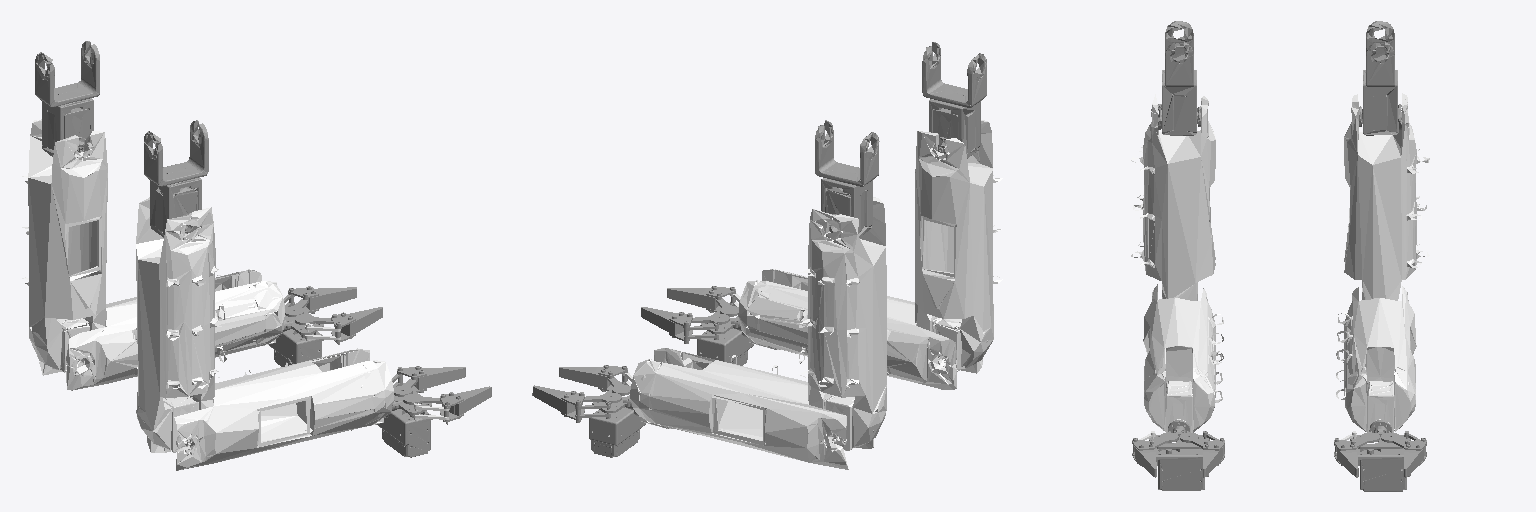
URDF robot description (uvdms):
<?xml version='1.0' encoding='utf-8'?>
<robot name="uvdms">
  <!-- Portable UVDMS model derived from authorized SolidWorks CAD exports. Mesh coordinates and source kinematic/inertial parameters are retained. Assets: CC BY-NC 4.0; attribution: Agn4869. --><link name="base_link">
    <inertial>
      <origin xyz="-0.21133 0.0021801 0.33464" rpy="0 0 0" />
      <mass value="29.878" />
      <inertia ixx="2.56" ixy="-0.01" ixz="-0.08" iyy="3.25" iyz="0.03" izz="2.94" />
    </inertial>
    <visual>
      <origin xyz="0 0 0" rpy="0 0 0" />
      <geometry>
        <mesh filename="../meshes/base_link.stl" />
      </geometry>
      <material name="">
        <color rgba="0.69804 0.69804 0.69804 1" />
      </material>
    </visual>
    <collision>
      <origin xyz="0 0 0" rpy="0 0 0" />
      <geometry>
        <mesh filename="../meshes/base_link.stl" />
      </geometry>
    </collision>
  </link>
  <link name="link_1A">
    <inertial>
      <origin xyz="4.50247e-05 0.0735971 -0.03365" rpy="0 0 0" />
      <mass value="0.33183" />
      <inertia ixx="0.00018008" ixy="-1.8956E-06" ixz="2.3669E-11" iyy="0.00012344" iyz="-3.6598E-07" izz="0.00015274" />
    </inertial>
    <visual>
      <origin xyz="-0.00464118 -0.0286529 -0" rpy="0 0 0" />
      <geometry>
        <mesh filename="../meshes/link_1A.stl" />
      </geometry>
      <material name="">
        <color rgba="0.69804 0.69804 0.69804 1" />
      </material>
    </visual>
    <collision>
      <origin xyz="-0.00464118 -0.0286529 -0" rpy="0 0 0" />
      <geometry>
        <mesh filename="../meshes/link_1A.stl" />
      </geometry>
    </collision>
  </link>
  <joint name="joint_1A" type="revolute">
    <origin xyz="0.0492999 0.125249 -0.10325" rpy="-1.5708 0 -1.5708" />
    <parent link="base_link" />
    <child link="link_1A" />
    <axis xyz="0 0 1" />
    <limit lower="-1.5708" upper="1.5708" effort="10" velocity="1" />
  </joint>
  <link name="link_2A">
    <inertial>
      <origin xyz="8.0321E-05 0.18362 -0.035882" rpy="0 0 0" />
      <mass value="0.50657" />
      <inertia ixx="0.0024479" ixy="3.8567E-08" ixz="2.4435E-07" iyy="0.0005045" iyz="-2.1761E-06" izz="0.0024658" />
    </inertial>
    <visual>
      <origin xyz="0 0 0" rpy="0 0 0" />
      <geometry>
        <mesh filename="../meshes/link_2A.stl" />
      </geometry>
      <material name="">
        <color rgba="1 1 1 1" />
      </material>
    </visual>
    <collision>
      <origin xyz="0 0 0" rpy="0 0 0" />
      <geometry>
        <mesh filename="../meshes/link_2A.stl" />
      </geometry>
    </collision>
  </link>
  <joint name="joint_2A" type="revolute">
    <origin xyz="0.0351998 0.0997471 -0.0336" rpy="0 1.5708 0" />
    <parent link="link_1A" />
    <child link="link_2A" />
    <axis xyz="0 0 -1" />
    <limit lower="-1.5708" upper="1.5708" effort="10" velocity="1" />
  </joint>
  <link name="link_3A">
    <inertial>
      <origin xyz="-0.17647 -0.0069515 0.033993" rpy="0 0 0" />
      <mass value="0.47744" />
      <inertia ixx="0.00049496" ixy="-1.5376E-06" ixz="-1.5357E-06" iyy="0.0021442" iyz="9.7392E-08" izz="0.0021234" />
    </inertial>
    <visual>
      <origin xyz="0 0 0" rpy="0 0 0" />
      <geometry>
        <mesh filename="../meshes/link_3A.stl" />
      </geometry>
      <material name="">
        <color rgba="1 1 1 1" />
      </material>
    </visual>
    <collision>
      <origin xyz="0 0 0" rpy="0 0 0" />
      <geometry>
        <mesh filename="../meshes/link_3A.stl" />
      </geometry>
    </collision>
  </link>
  <joint name="joint_3A" type="revolute">
    <origin xyz="0.00015 0.27269 -0.00028678" rpy="3.1416 0 0" />
    <parent link="link_2A" />
    <child link="link_3A" />
    <axis xyz="0 0 1" />
    <limit lower="-1.5708" upper="1.5708" effort="10" velocity="1" />
  </joint>
  <link name="link_4A">
    <inertial>
      <origin xyz="2.7756E-17 -1.1102E-16 -0.0005" rpy="0 0 0" />
      <mass value="0.00053721" />
      <inertia ixx="2.9726E-08" ixy="-3.809E-24" ixz="-5.2782E-24" iyy="2.9726E-08" iyz="-2.0025E-23" izz="5.9362E-08" />
    </inertial>
    <visual>
      <origin xyz="0 0 0" rpy="0 0 0" />
      <geometry>
        <mesh filename="../meshes/link_4A.stl" />
      </geometry>
      <material name="">
        <color rgba="1 1 1 1" />
      </material>
    </visual>
    <collision>
      <origin xyz="0 0 0" rpy="0 0 0" />
      <geometry>
        <mesh filename="../meshes/link_4A.stl" />
      </geometry>
    </collision>
  </link>
  <joint name="joint_4A" type="revolute">
    <origin xyz="-0.27384 -0.03022 0.035176" rpy="-3.1416 1.5708 0" />
    <parent link="link_3A" />
    <child link="link_4A" />
    <axis xyz="0 0 1" />
    <limit lower="-1.5708" upper="1.5708" effort="10" velocity="1" />
  </joint>
  <link name="link_1B">
    <inertial>
      <origin xyz="-4.52e-05 0.0736013 -0.033845" rpy="0 0 0" />
      <mass value="0.33183" />
      <inertia ixx="0.00018008" ixy="1.8955E-06" ixz="2.3669E-11" iyy="0.00012344" iyz="-3.6598E-07" izz="0.00015274" />
    </inertial>
    <visual>
      <origin xyz="-0.004605 -0.0274487 -0" rpy="0 0 0" />
      <geometry>
        <mesh filename="../meshes/link_1B.stl" />
      </geometry>
      <material name="">
        <color rgba="0.69804 0.69804 0.69804 1" />
      </material>
    </visual>
    <collision>
      <origin xyz="-0.004605 -0.0274487 -0" rpy="0 0 0" />
      <geometry>
        <mesh filename="../meshes/link_1B.stl" />
      </geometry>
    </collision>
  </link>
  <joint name="joint_1B" type="revolute">
    <origin xyz="0.0492999 -0.125255 -0.103251" rpy="-1.5708 0 -1.5708" />
    <parent link="base_link" />
    <child link="link_1B" />
    <axis xyz="0 0 -1" />
    <limit lower="-1.5708" upper="1.5708" effort="10" velocity="1" />
  </joint>
  <link name="link_2B">
    <inertial>
      <origin xyz="4.7642E-05 0.18362 0.035882" rpy="0 0 0" />
      <mass value="0.50657" />
      <inertia ixx="0.0024479" ixy="-3.8543E-08" ixz="2.4433E-07" iyy="0.0005045" iyz="2.176E-06" izz="0.0024658" />
    </inertial>
    <visual>
      <origin xyz="0 0 0" rpy="0 0 0" />
      <geometry>
        <mesh filename="../meshes/link_2B.stl" />
      </geometry>
      <material name="">
        <color rgba="1 1 1 1" />
      </material>
    </visual>
    <collision>
      <origin xyz="0 0 0" rpy="0 0 0" />
      <geometry>
        <mesh filename="../meshes/link_2B.stl" />
      </geometry>
    </collision>
  </link>
  <joint name="joint_2B" type="revolute">
    <origin xyz="-0.0352 0.0997513 -0.0339" rpy="0 1.5708 0" />
    <parent link="link_1B" />
    <child link="link_2B" />
    <axis xyz="0 0 1" />
    <limit lower="-1.5708" upper="1.5708" effort="10" velocity="1" />
  </joint>
  <link name="link_3B">
    <inertial>
      <origin xyz="-0.17647 0.0069776 0.034083" rpy="0 0 0" />
      <mass value="0.47744" />
      <inertia ixx="0.00049496" ixy="2.2535E-06" ixz="-1.5359E-06" iyy="0.0021442" iyz="9.7334E-08" izz="0.0021234" />
    </inertial>
    <visual>
      <origin xyz="0 0 0" rpy="0 0 0" />
      <geometry>
        <mesh filename="../meshes/link_3B.stl" />
      </geometry>
      <material name="">
        <color rgba="1 1 1 1" />
      </material>
    </visual>
    <collision>
      <origin xyz="0 0 0" rpy="0 0 0" />
      <geometry>
        <mesh filename="../meshes/link_3B.stl" />
      </geometry>
    </collision>
  </link>
  <joint name="joint_3B" type="revolute">
    <origin xyz="0.00015 0.27269 0.00028678" rpy="0 0 0" />
    <parent link="link_2B" />
    <child link="link_3B" />
    <axis xyz="0 0 -1" />
    <limit lower="-1.5708" upper="1.5708" effort="10" velocity="1" />
  </joint>
  <link name="link_4B">
    <inertial>
      <origin xyz="1.3878E-17 0 -0.0005" rpy="0 0 0" />
      <mass value="0.00053721" />
      <inertia ixx="2.9726E-08" ixy="2.3117E-24" ixz="1.1944E-25" iyy="2.9726E-08" iyz="7.3867E-24" izz="5.9362E-08" />
    </inertial>
    <visual>
      <origin xyz="0 0 0" rpy="0 0 0" />
      <geometry>
        <mesh filename="../meshes/link_4B.stl" />
      </geometry>
      <material name="">
        <color rgba="1 1 1 1" />
      </material>
    </visual>
    <collision>
      <origin xyz="0 0 0" rpy="0 0 0" />
      <geometry>
        <mesh filename="../meshes/link_4B.stl" />
      </geometry>
    </collision>
  </link>
  <joint name="joint_4B" type="revolute">
    <origin xyz="-0.27384 0.03022 0.035376" rpy="0 -1.5708 0" />
    <parent link="link_3B" />
    <child link="link_4B" />
    <axis xyz="0 0 1" />
    <limit lower="-1.5708" upper="1.5708" effort="10" velocity="1" />
  </joint>
  <joint name="A_gripper_mount" type="fixed">
    <origin xyz="0 0 0" rpy="1.5708 -1.5708 0" />
    <parent link="link_4A" />
    <child link="A_gripper_base_link" />
  </joint>
  <link name="A_gripper_base_link">
    <inertial>
      <origin xyz="0.033447 0.0036501 -0.028339" rpy="0 0 0" />
      <mass value="0.29117" />
      <inertia ixx="0.00012457" ixy="-2.0481E-06" ixz="-1.0336E-06" iyy="6.4073E-05" iyz="2.513E-06" izz="0.00011936" />
    </inertial>
    <visual>
      <origin xyz="0 0 0" rpy="0 0 0" />
      <geometry>
        <mesh filename="../meshes/gripper_base_link.stl" />
      </geometry>
      <material name="">
        <color rgba="0.69804 0.69804 0.69804 1" />
      </material>
    </visual>
    <collision>
      <origin xyz="0 0 0" rpy="0 0 0" />
      <geometry>
        <mesh filename="../meshes/gripper_base_link.stl" />
      </geometry>
    </collision>
  </link>
  <link name="A_gripper_left_inner_link">
    <inertial>
      <origin xyz="0.00757153 0.00563705 -0.00139801" rpy="0 0 0" />
      <mass value="0.0066568" />
      <inertia ixx="5.77028e-07" ixy="-5.3797e-07" ixz="-1.39145e-08" iyy="8.95493e-07" iyz="-1.03867e-08" izz="1.45951e-06" />
    </inertial>
    <visual>
      <origin xyz="0 0 0" rpy="0 0 0" />
      <geometry>
        <mesh filename="../meshes/gripper_left_inner_link.stl" />
      </geometry>
      <material name="">
        <color rgba="0.69804 0.69804 0.69804 1" />
      </material>
    </visual>
    <collision>
      <origin xyz="0 0 0" rpy="0 0 0" />
      <geometry>
        <mesh filename="../meshes/gripper_left_inner_link.stl" />
      </geometry>
    </collision>
  </link>
  <joint name="A_gripper_left_D" type="revolute">
    <origin xyz="0.0355 0.0125 0.0076" rpy="0 0 0" />
    <parent link="A_gripper_base_link" />
    <child link="A_gripper_left_inner_link" />
    <axis xyz="0 0 -1" />
    <limit lower="-0.7" upper="0.7" effort="10" velocity="2" />
    <mimic joint="A_gripper_right_D" multiplier="-1" offset="0" />
  </joint>
  <link name="A_gripper_left_jaw_link">
    <inertial>
      <origin xyz="0.0217676 0.00601999 -0.00642772" rpy="0 0 0" />
      <mass value="0.033048" />
      <inertia ixx="2.68863e-06" ixy="1.98012e-06" ixz="-8.08642e-10" iyy="1.09376e-05" iyz="2.52664e-08" izz="1.13551e-05" />
    </inertial>
    <visual>
      <origin xyz="0 0 0" rpy="0 0 0" />
      <geometry>
        <mesh filename="../meshes/gripper_left_jaw_link.stl" />
      </geometry>
      <material name="">
        <color rgba="0.69804 0.69804 0.69804 1" />
      </material>
    </visual>
    <collision>
      <origin xyz="0 0 0" rpy="0 0 0" />
      <geometry>
        <mesh filename="../meshes/gripper_left_jaw_link.stl" />
      </geometry>
    </collision>
  </link>
  <joint name="A_gripper_left_B" type="revolute">
    <origin xyz="0.028055 0.020926 0" rpy="0 0 0" />
    <parent link="A_gripper_left_inner_link" />
    <child link="A_gripper_left_jaw_link" />
    <axis xyz="0 0 1" />
    <limit lower="-0.7" upper="0.7" effort="10" velocity="2" />
    <mimic joint="A_gripper_right_D" multiplier="-1" offset="0" />
  </joint>
  <link name="A_gripper_left_outer_link">
    <inertial>
      <origin xyz="0.0108929 0.00913989 -0.00125956" rpy="0 0 0" />
      <mass value="0.0052826" />
      <inertia ixx="5.34868e-07" ixy="-4.35202e-07" ixz="-1.49356e-08" iyy="7.64103e-07" iyz="-1.25281e-08" izz="9.27182e-07" />
    </inertial>
    <visual>
      <origin xyz="0 0 0" rpy="0 0 0" />
      <geometry>
        <mesh filename="../meshes/gripper_left_outer_link.stl" />
      </geometry>
      <material name="">
        <color rgba="0.69804 0.69804 0.69804 1" />
      </material>
    </visual>
    <collision>
      <origin xyz="0 0 0" rpy="0 0 0" />
      <geometry>
        <mesh filename="../meshes/gripper_left_outer_link.stl" />
      </geometry>
    </collision>
  </link>
  <joint name="A_gripper_left_A" type="revolute">
    <origin xyz="0.028147 0.032703 0.0016" rpy="0 0 0" />
    <parent link="A_gripper_base_link" />
    <child link="A_gripper_left_outer_link" />
    <axis xyz="0 0 1" />
    <limit lower="-0.7" upper="0.7" effort="10" velocity="2" />
    <mimic joint="A_gripper_right_D" multiplier="1" offset="0" />
  </joint>
  <link name="A_gripper_right_inner_link">
    <inertial>
      <origin xyz="0.00754536 -0.00586527 -0.00140078" rpy="0 0 0" />
      <mass value="0.0067264" />
      <inertia ixx="6.10208e-07" ixy="5.58973e-07" ixz="-1.34012e-08" iyy="8.91009e-07" iyz="1.04457e-08" izz="1.48815e-06" />
    </inertial>
    <visual>
      <origin xyz="0 0 0" rpy="0 0 0" />
      <geometry>
        <mesh filename="../meshes/gripper_right_inner_link.stl" />
      </geometry>
      <material name="">
        <color rgba="0.69804 0.69804 0.69804 1" />
      </material>
    </visual>
    <collision>
      <origin xyz="0 0 0" rpy="0 0 0" />
      <geometry>
        <mesh filename="../meshes/gripper_right_inner_link.stl" />
      </geometry>
    </collision>
  </link>
  <joint name="A_gripper_right_D" type="revolute">
    <origin xyz="0.0355 -0.0125 0.0076" rpy="0 0 0" />
    <parent link="A_gripper_base_link" />
    <child link="A_gripper_right_inner_link" />
    <axis xyz="0 0 -1" />
    <limit lower="-0.7" upper="0.7" effort="10" velocity="2" />
  </joint>
  <link name="A_gripper_right_jaw_link">
    <inertial>
      <origin xyz="0.0220529 -0.00515164 -0.010536" rpy="0 0 0" />
      <mass value="0.032932" />
      <inertia ixx="2.79752e-06" ixy="-2.239e-06" ixz="6.36578e-08" iyy="1.07028e-05" iyz="3.46405e-09" izz="1.12678e-05" />
    </inertial>
    <visual>
      <origin xyz="0 0 0" rpy="0 0 0" />
      <geometry>
        <mesh filename="../meshes/gripper_right_jaw_link.stl" />
      </geometry>
      <material name="">
        <color rgba="0.69804 0.69804 0.69804 1" />
      </material>
    </visual>
    <collision>
      <origin xyz="0 0 0" rpy="0 0 0" />
      <geometry>
        <mesh filename="../meshes/gripper_right_jaw_link.stl" />
      </geometry>
    </collision>
  </link>
  <joint name="A_gripper_right_B" type="revolute">
    <origin xyz="0.027613 -0.021506 0.004" rpy="0 0 0" />
    <parent link="A_gripper_right_inner_link" />
    <child link="A_gripper_right_jaw_link" />
    <axis xyz="0 0 1" />
    <limit lower="-0.7" upper="0.7" effort="10" velocity="2" />
    <mimic joint="A_gripper_right_D" multiplier="1" offset="0" />
  </joint>
  <link name="A_gripper_right_outer_link">
    <inertial>
      <origin xyz="0.0106949 -0.00935773 -0.00125861" rpy="0 0 0" />
      <mass value="0.0052826" />
      <inertia ixx="5.52876e-07" ixy="4.393e-07" ixz="-1.4576e-08" iyy="7.45501e-07" iyz="1.28256e-08" izz="9.26571e-07" />
    </inertial>
    <visual>
      <origin xyz="0 0 0" rpy="0 0 0" />
      <geometry>
        <mesh filename="../meshes/gripper_right_outer_link.stl" />
      </geometry>
      <material name="">
        <color rgba="1 1 1 1" />
      </material>
    </visual>
    <collision>
      <origin xyz="0 0 0" rpy="0 0 0" />
      <geometry>
        <mesh filename="../meshes/gripper_right_outer_link.stl" />
      </geometry>
    </collision>
  </link>
  <joint name="A_gripper_right_A" type="revolute">
    <origin xyz="0.028147 -0.032703 0.0016" rpy="0 0 0" />
    <parent link="A_gripper_base_link" />
    <child link="A_gripper_right_outer_link" />
    <axis xyz="0 0 1" />
    <limit lower="-0.7" upper="0.7" effort="10" velocity="2" />
    <mimic joint="A_gripper_right_D" multiplier="-1" offset="0" />
  </joint>
  <link name="A_gripper_tcp" />
  <joint name="A_gripper_tcp_joint" type="fixed">
    <origin xyz="0.115 0 0" rpy="0 0 0" />
    <parent link="A_gripper_base_link" />
    <child link="A_gripper_tcp" />
  </joint>
  <joint name="B_gripper_mount" type="fixed">
    <origin xyz="0 0 0" rpy="1.5708 -1.5708 0" />
    <parent link="link_4B" />
    <child link="B_gripper_base_link" />
  </joint>
  <link name="B_gripper_base_link">
    <inertial>
      <origin xyz="0.033447 0.0036501 -0.028339" rpy="0 0 0" />
      <mass value="0.29117" />
      <inertia ixx="0.00012457" ixy="-2.0481E-06" ixz="-1.0336E-06" iyy="6.4073E-05" iyz="2.513E-06" izz="0.00011936" />
    </inertial>
    <visual>
      <origin xyz="0 0 0" rpy="0 0 0" />
      <geometry>
        <mesh filename="../meshes/gripper_base_link.stl" />
      </geometry>
      <material name="">
        <color rgba="0.69804 0.69804 0.69804 1" />
      </material>
    </visual>
    <collision>
      <origin xyz="0 0 0" rpy="0 0 0" />
      <geometry>
        <mesh filename="../meshes/gripper_base_link.stl" />
      </geometry>
    </collision>
  </link>
  <link name="B_gripper_left_inner_link">
    <inertial>
      <origin xyz="0.00757153 0.00563705 -0.00139801" rpy="0 0 0" />
      <mass value="0.0066568" />
      <inertia ixx="5.77028e-07" ixy="-5.3797e-07" ixz="-1.39145e-08" iyy="8.95493e-07" iyz="-1.03867e-08" izz="1.45951e-06" />
    </inertial>
    <visual>
      <origin xyz="0 0 0" rpy="0 0 0" />
      <geometry>
        <mesh filename="../meshes/gripper_left_inner_link.stl" />
      </geometry>
      <material name="">
        <color rgba="0.69804 0.69804 0.69804 1" />
      </material>
    </visual>
    <collision>
      <origin xyz="0 0 0" rpy="0 0 0" />
      <geometry>
        <mesh filename="../meshes/gripper_left_inner_link.stl" />
      </geometry>
    </collision>
  </link>
  <joint name="B_gripper_left_D" type="revolute">
    <origin xyz="0.0355 0.0125 0.0076" rpy="0 0 0" />
    <parent link="B_gripper_base_link" />
    <child link="B_gripper_left_inner_link" />
    <axis xyz="0 0 -1" />
    <limit lower="-0.7" upper="0.7" effort="10" velocity="2" />
    <mimic joint="B_gripper_right_D" multiplier="-1" offset="0" />
  </joint>
  <link name="B_gripper_left_jaw_link">
    <inertial>
      <origin xyz="0.0217676 0.00601999 -0.00642772" rpy="0 0 0" />
      <mass value="0.033048" />
      <inertia ixx="2.68863e-06" ixy="1.98012e-06" ixz="-8.08642e-10" iyy="1.09376e-05" iyz="2.52664e-08" izz="1.13551e-05" />
    </inertial>
    <visual>
      <origin xyz="0 0 0" rpy="0 0 0" />
      <geometry>
        <mesh filename="../meshes/gripper_left_jaw_link.stl" />
      </geometry>
      <material name="">
        <color rgba="0.69804 0.69804 0.69804 1" />
      </material>
    </visual>
    <collision>
      <origin xyz="0 0 0" rpy="0 0 0" />
      <geometry>
        <mesh filename="../meshes/gripper_left_jaw_link.stl" />
      </geometry>
    </collision>
  </link>
  <joint name="B_gripper_left_B" type="revolute">
    <origin xyz="0.028055 0.020926 0" rpy="0 0 0" />
    <parent link="B_gripper_left_inner_link" />
    <child link="B_gripper_left_jaw_link" />
    <axis xyz="0 0 1" />
    <limit lower="-0.7" upper="0.7" effort="10" velocity="2" />
    <mimic joint="B_gripper_right_D" multiplier="-1" offset="0" />
  </joint>
  <link name="B_gripper_left_outer_link">
    <inertial>
      <origin xyz="0.0108929 0.00913989 -0.00125956" rpy="0 0 0" />
      <mass value="0.0052826" />
      <inertia ixx="5.34868e-07" ixy="-4.35202e-07" ixz="-1.49356e-08" iyy="7.64103e-07" iyz="-1.25281e-08" izz="9.27182e-07" />
    </inertial>
    <visual>
      <origin xyz="0 0 0" rpy="0 0 0" />
      <geometry>
        <mesh filename="../meshes/gripper_left_outer_link.stl" />
      </geometry>
      <material name="">
        <color rgba="0.69804 0.69804 0.69804 1" />
      </material>
    </visual>
    <collision>
      <origin xyz="0 0 0" rpy="0 0 0" />
      <geometry>
        <mesh filename="../meshes/gripper_left_outer_link.stl" />
      </geometry>
    </collision>
  </link>
  <joint name="B_gripper_left_A" type="revolute">
    <origin xyz="0.028147 0.032703 0.0016" rpy="0 0 0" />
    <parent link="B_gripper_base_link" />
    <child link="B_gripper_left_outer_link" />
    <axis xyz="0 0 1" />
    <limit lower="-0.7" upper="0.7" effort="10" velocity="2" />
    <mimic joint="B_gripper_right_D" multiplier="1" offset="0" />
  </joint>
  <link name="B_gripper_right_inner_link">
    <inertial>
      <origin xyz="0.00754536 -0.00586527 -0.00140078" rpy="0 0 0" />
      <mass value="0.0067264" />
      <inertia ixx="6.10208e-07" ixy="5.58973e-07" ixz="-1.34012e-08" iyy="8.91009e-07" iyz="1.04457e-08" izz="1.48815e-06" />
    </inertial>
    <visual>
      <origin xyz="0 0 0" rpy="0 0 0" />
      <geometry>
        <mesh filename="../meshes/gripper_right_inner_link.stl" />
      </geometry>
      <material name="">
        <color rgba="0.69804 0.69804 0.69804 1" />
      </material>
    </visual>
    <collision>
      <origin xyz="0 0 0" rpy="0 0 0" />
      <geometry>
        <mesh filename="../meshes/gripper_right_inner_link.stl" />
      </geometry>
    </collision>
  </link>
  <joint name="B_gripper_right_D" type="revolute">
    <origin xyz="0.0355 -0.0125 0.0076" rpy="0 0 0" />
    <parent link="B_gripper_base_link" />
    <child link="B_gripper_right_inner_link" />
    <axis xyz="0 0 -1" />
    <limit lower="-0.7" upper="0.7" effort="10" velocity="2" />
  </joint>
  <link name="B_gripper_right_jaw_link">
    <inertial>
      <origin xyz="0.0220529 -0.00515164 -0.010536" rpy="0 0 0" />
      <mass value="0.032932" />
      <inertia ixx="2.79752e-06" ixy="-2.239e-06" ixz="6.36578e-08" iyy="1.07028e-05" iyz="3.46405e-09" izz="1.12678e-05" />
    </inertial>
    <visual>
      <origin xyz="0 0 0" rpy="0 0 0" />
      <geometry>
        <mesh filename="../meshes/gripper_right_jaw_link.stl" />
      </geometry>
      <material name="">
        <color rgba="0.69804 0.69804 0.69804 1" />
      </material>
    </visual>
    <collision>
      <origin xyz="0 0 0" rpy="0 0 0" />
      <geometry>
        <mesh filename="../meshes/gripper_right_jaw_link.stl" />
      </geometry>
    </collision>
  </link>
  <joint name="B_gripper_right_B" type="revolute">
    <origin xyz="0.027613 -0.021506 0.004" rpy="0 0 0" />
    <parent link="B_gripper_right_inner_link" />
    <child link="B_gripper_right_jaw_link" />
    <axis xyz="0 0 1" />
    <limit lower="-0.7" upper="0.7" effort="10" velocity="2" />
    <mimic joint="B_gripper_right_D" multiplier="1" offset="0" />
  </joint>
  <link name="B_gripper_right_outer_link">
    <inertial>
      <origin xyz="0.0106949 -0.00935773 -0.00125861" rpy="0 0 0" />
      <mass value="0.0052826" />
      <inertia ixx="5.52876e-07" ixy="4.393e-07" ixz="-1.4576e-08" iyy="7.45501e-07" iyz="1.28256e-08" izz="9.26571e-07" />
    </inertial>
    <visual>
      <origin xyz="0 0 0" rpy="0 0 0" />
      <geometry>
        <mesh filename="../meshes/gripper_right_outer_link.stl" />
      </geometry>
      <material name="">
        <color rgba="1 1 1 1" />
      </material>
    </visual>
    <collision>
      <origin xyz="0 0 0" rpy="0 0 0" />
      <geometry>
        <mesh filename="../meshes/gripper_right_outer_link.stl" />
      </geometry>
    </collision>
  </link>
  <joint name="B_gripper_right_A" type="revolute">
    <origin xyz="0.028147 -0.032703 0.0016" rpy="0 0 0" />
    <parent link="B_gripper_base_link" />
    <child link="B_gripper_right_outer_link" />
    <axis xyz="0 0 1" />
    <limit lower="-0.7" upper="0.7" effort="10" velocity="2" />
    <mimic joint="B_gripper_right_D" multiplier="-1" offset="0" />
  </joint>
  <link name="B_gripper_tcp" />
  <joint name="B_gripper_tcp_joint" type="fixed">
    <origin xyz="0.115 0 0" rpy="0 0 0" />
    <parent link="B_gripper_base_link" />
    <child link="B_gripper_tcp" />
  </joint>
</robot>

--- Facts derived from the render (not from the file) ---
The picture shows the robot from 3 angles, left to right: view 1: azimuth 30°, elevation 25°; view 2: azimuth 150°, elevation 25°; view 3: azimuth 270°, elevation 25°; orthographic projection.
Robot: uvdms — 25 links, 24 joints (20 revolute, 4 fixed); root link base_link; default pose: all joints at 0.
Visible links, largest first — view 1: link_2B, link_2A, link_3B, link_3A, link_1A, link_1B, B_gripper_base_link, A_gripper_base_link, B_gripper_left_jaw_link, A_gripper_left_jaw_link, A_gripper_right_jaw_link, B_gripper_right_jaw_link; view 2: link_2A, link_2B, link_3A, link_3B, link_1B, link_1A, A_gripper_base_link, B_gripper_base_link, B_gripper_right_jaw_link, A_gripper_right_jaw_link, B_gripper_left_jaw_link, A_gripper_left_jaw_link; view 3: link_2A, link_2B, link_3B, link_3A, link_1B, link_1A, A_gripper_base_link, B_gripper_base_link, B_gripper_right_jaw_link, A_gripper_right_jaw_link, A_gripper_left_jaw_link, B_gripper_left_jaw_link.
Link boxes in pixels (x1,y1,x2,y2): link_2B: (136, 197, 221, 452); link_2A: (22, 119, 107, 372); link_3B: (147, 348, 393, 470); link_3A: (39, 269, 284, 390); link_1A: (35, 41, 99, 156); link_1B: (144, 120, 208, 237); B_gripper_base_link: (376, 390, 432, 457); A_gripper_base_link: (269, 310, 323, 366); B_gripper_left_jaw_link: (397, 366, 465, 392); A_gripper_left_jaw_link: (288, 286, 356, 313); A_gripper_right_jaw_link: (331, 307, 382, 344); B_gripper_right_jaw_link: (440, 386, 491, 424); link_2A: (798, 197, 886, 450); link_2B: (915, 120, 1002, 371); link_3A: (630, 348, 873, 469); link_3B: (738, 269, 982, 389); link_1B: (922, 42, 986, 158); link_1A: (815, 120, 879, 237); A_gripper_base_link: (589, 388, 645, 457); B_gripper_base_link: (697, 310, 753, 365); B_gripper_right_jaw_link: (667, 286, 735, 312); A_gripper_right_jaw_link: (559, 365, 627, 391); B_gripper_left_jaw_link: (641, 307, 692, 343); A_gripper_left_jaw_link: (532, 385, 584, 422); link_2A: (1344, 93, 1429, 300); link_2B: (1130, 94, 1215, 300); link_3B: (1143, 284, 1223, 432); link_3A: (1336, 286, 1416, 432); link_1B: (1158, 21, 1200, 135); link_1A: (1359, 21, 1401, 135); A_gripper_base_link: (1350, 420, 1410, 491); B_gripper_base_link: (1149, 420, 1209, 490); B_gripper_right_jaw_link: (1132, 438, 1156, 477); A_gripper_right_jaw_link: (1334, 438, 1358, 477); A_gripper_left_jaw_link: (1404, 438, 1426, 477); B_gripper_left_jaw_link: (1203, 438, 1224, 477).
Bounding box of the posed robot: 0.4495 × 0.3744 × 0.4809 m (x, y, z).
Meshes: 16 distinct files referenced, 22 mesh visuals loaded (15 binary STL); not drawn: 1 (reference not matched to a file when rendering).
